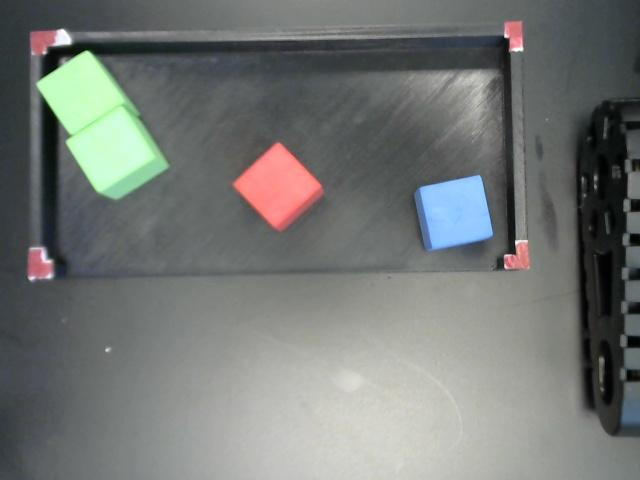cube: (64, 107, 170, 201), (233, 141, 327, 231), (40, 51, 137, 135), (417, 170, 493, 249)
